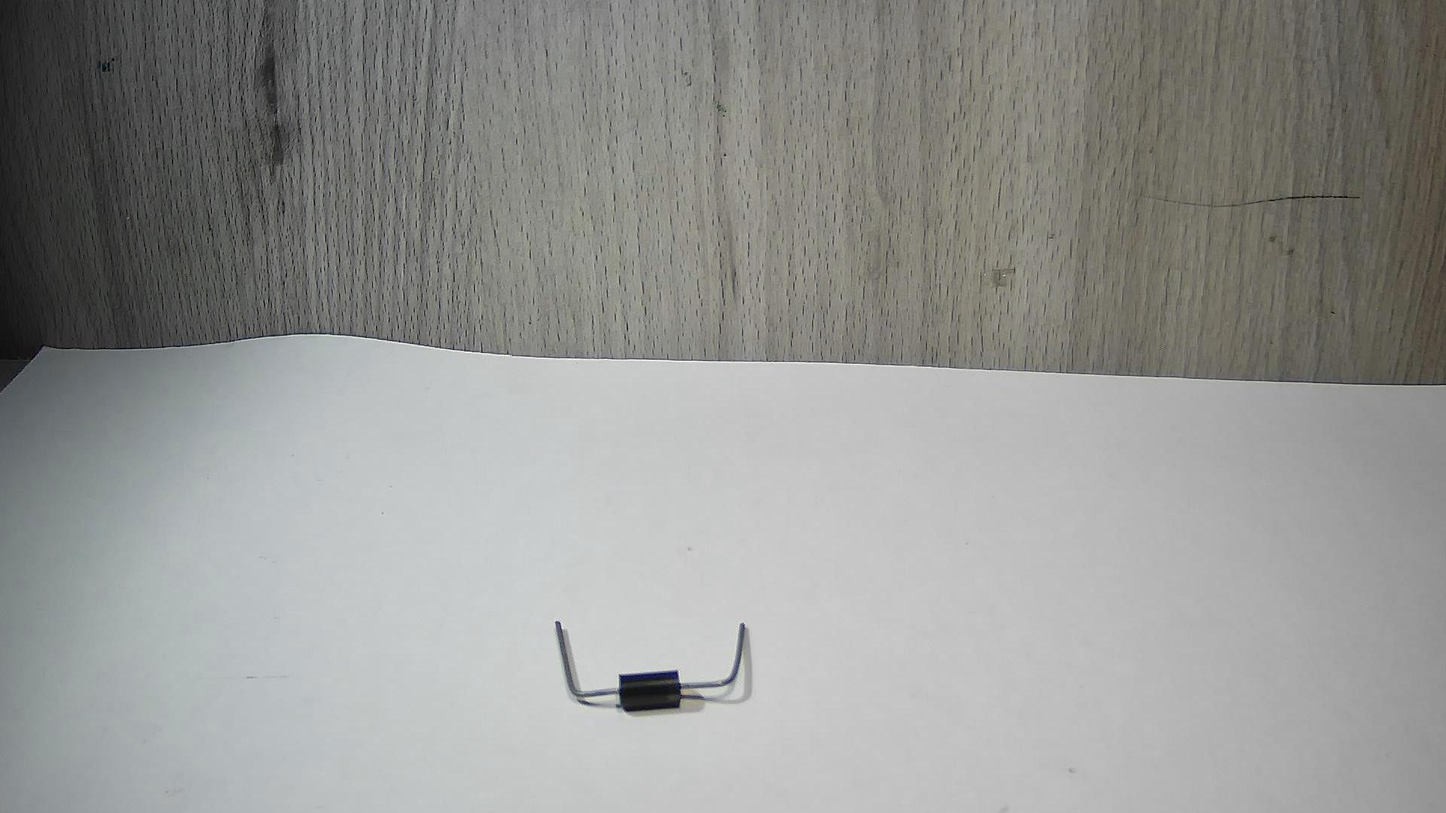Diodo: (522, 577, 808, 750)
